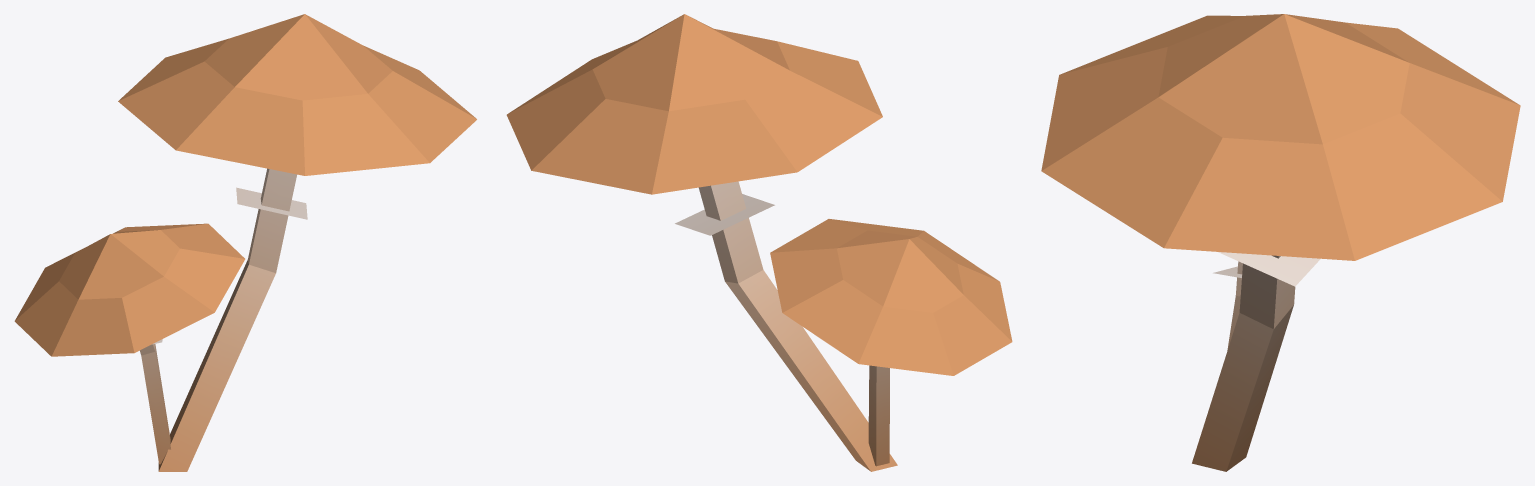
The model's file is Mushroom_i_09.fbx.
3 views of the same model, side by side, from view 1: azimuth 30°, elevation 25°; view 2: azimuth 150°, elevation 25°; view 3: azimuth 270°, elevation 25° (orthographic). The views are drawn at different scales.
Parts seen in each view (by area): view 1: Mushroom_i_09; view 2: Mushroom_i_09; view 3: Mushroom_i_09.
Boxes of the visible parts, box(x1,y1,x2,y2) form: Mushroom_i_09: box(14, 14, 476, 471); Mushroom_i_09: box(506, 14, 1012, 471); Mushroom_i_09: box(1041, 14, 1520, 471).
Size of the model in its own units: 34.53 by 31.22 by 24.57.
